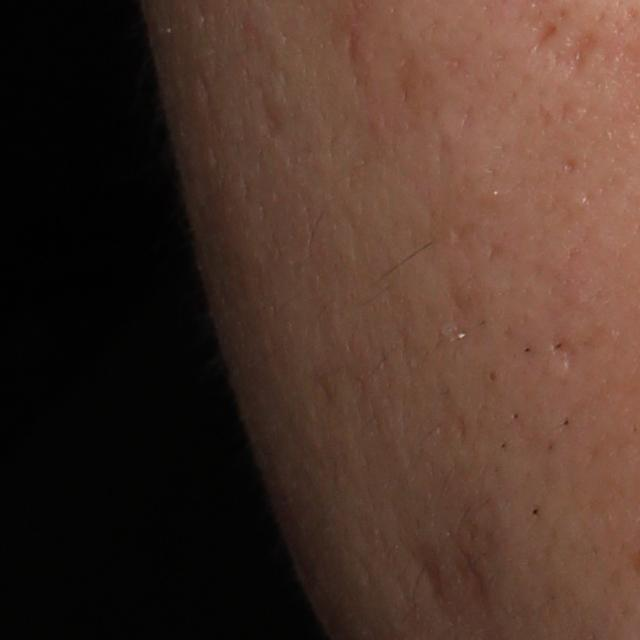atrophic_scar: (544, 30, 605, 84), (254, 72, 289, 147), (546, 334, 580, 372), (529, 19, 561, 57)
